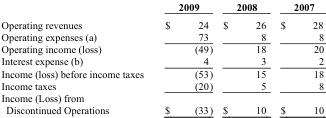table: (0, 0, 323, 115)
table column: (0, 0, 153, 115), (153, 0, 217, 115), (217, 0, 272, 115), (272, 0, 323, 115)
table column header: (0, 0, 323, 15)
table row: (0, 91, 323, 115), (0, 0, 323, 15), (0, 15, 323, 30), (0, 54, 323, 67), (0, 30, 323, 42), (0, 42, 323, 54), (0, 67, 323, 79), (0, 79, 323, 91)
